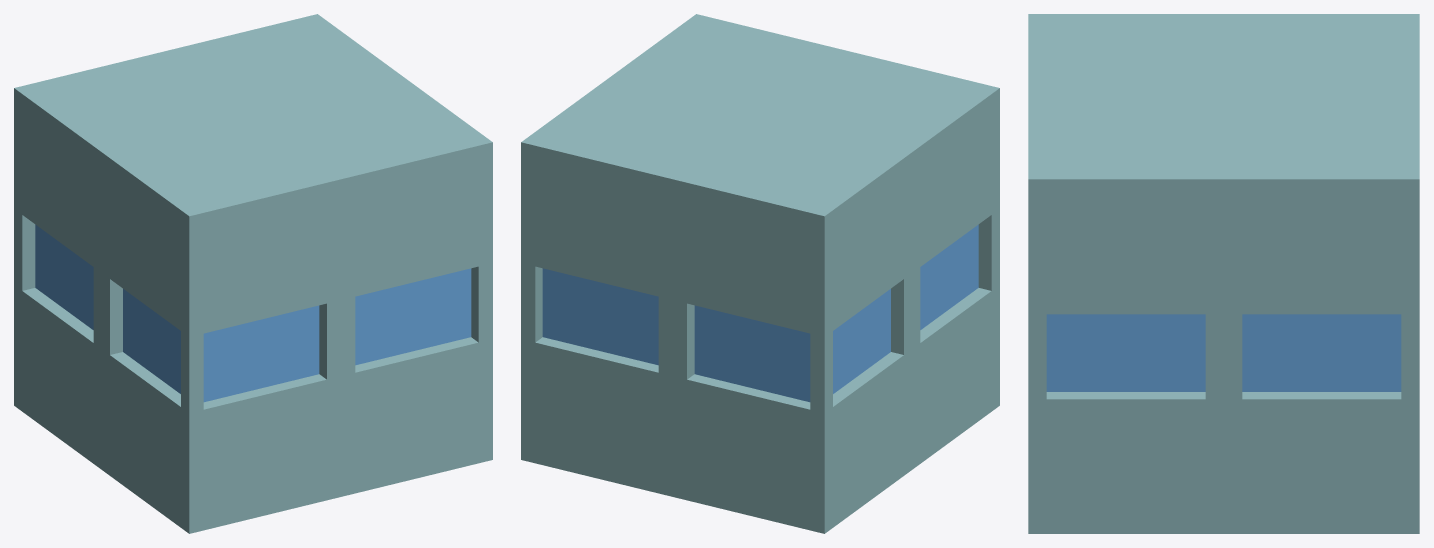
Rendered from building_1x1_2_f_pink.glb.
3 renders of one model, left to right at view 1: azimuth 30°, elevation 25°; view 2: azimuth 150°, elevation 25°; view 3: azimuth 270°, elevation 25°, orthographic. The views are drawn at different scales.
Visible parts, largest first — view 1: Cube.001; view 2: Cube.001; view 3: Cube.001.
Part boxes in pixels (x1,y1,x2,y2): Cube.001: (14,14,492,533); Cube.001: (521,14,999,533); Cube.001: (1028,14,1419,533).
Bounding box in the file's own units: 1.6 × 1.6 × 1.6.
